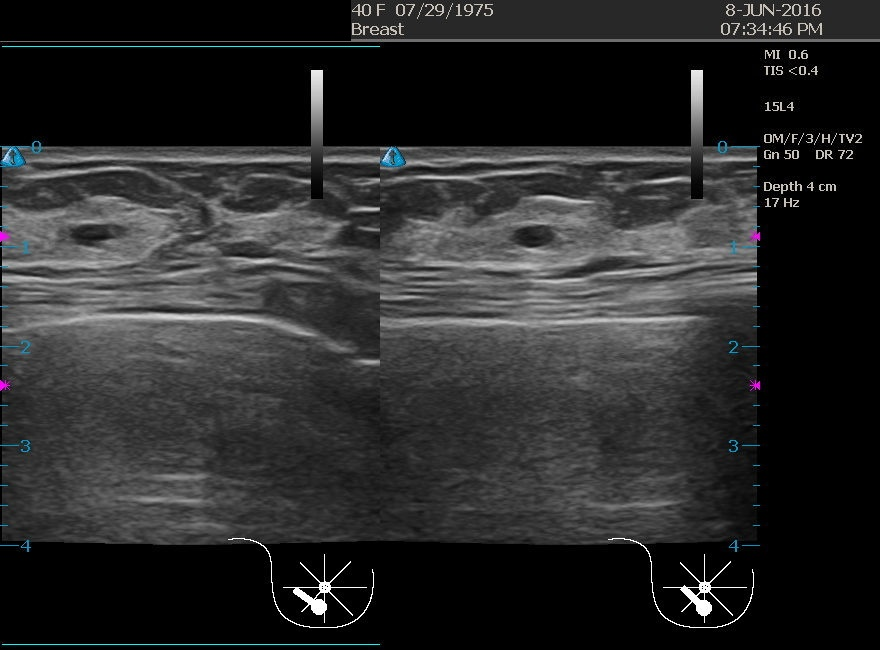BIRADS_2: (34, 165, 234, 365), (424, 184, 624, 384)
